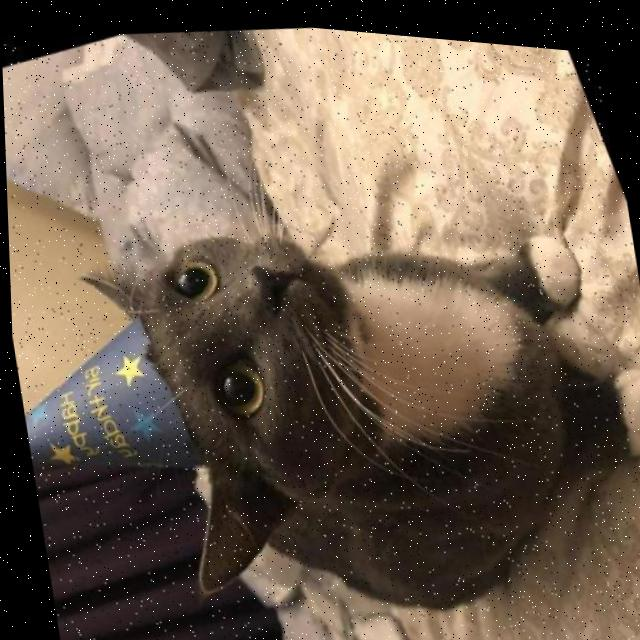Cats: (13, 37, 640, 640)
